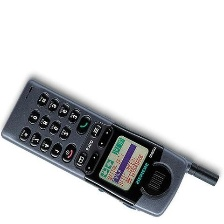phone: (0, 78, 223, 220)
